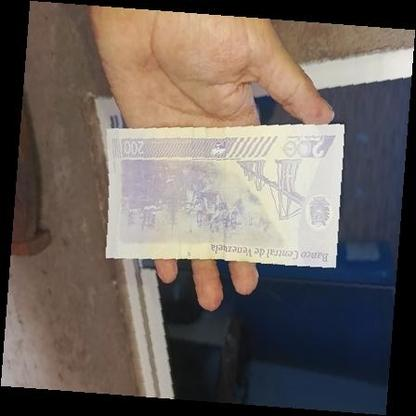two_hundred-back-vef: (105, 123, 345, 268)
